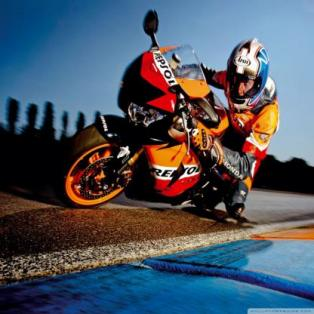Motocicleta: (54, 33, 237, 219)
